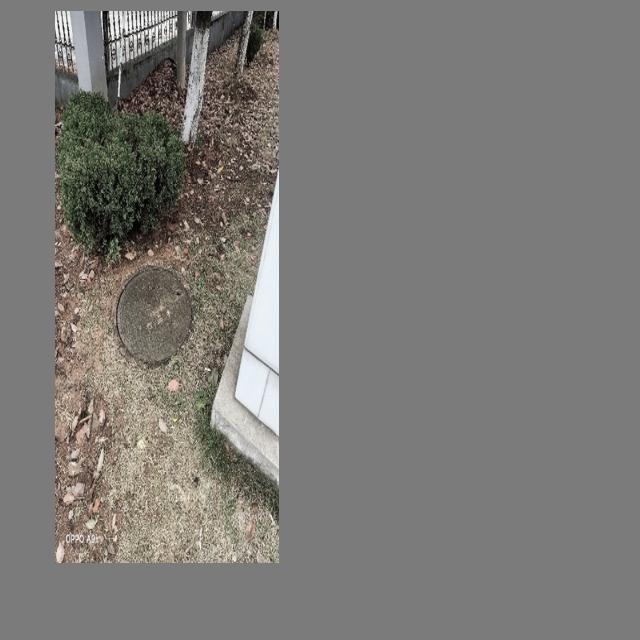good: (113, 264, 192, 368)
